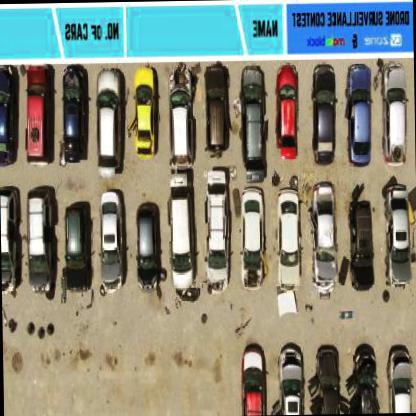car: (238, 63, 266, 175), (310, 183, 338, 295), (95, 66, 122, 178), (60, 202, 90, 301), (23, 65, 52, 165), (346, 63, 374, 166), (204, 172, 228, 292), (310, 63, 338, 163), (382, 60, 408, 166), (348, 184, 374, 290), (60, 68, 88, 166), (168, 67, 194, 172), (98, 192, 124, 292), (306, 344, 342, 414), (134, 203, 160, 294), (0, 186, 21, 294), (132, 66, 156, 158), (274, 343, 304, 414), (240, 344, 268, 414), (0, 64, 15, 167)
